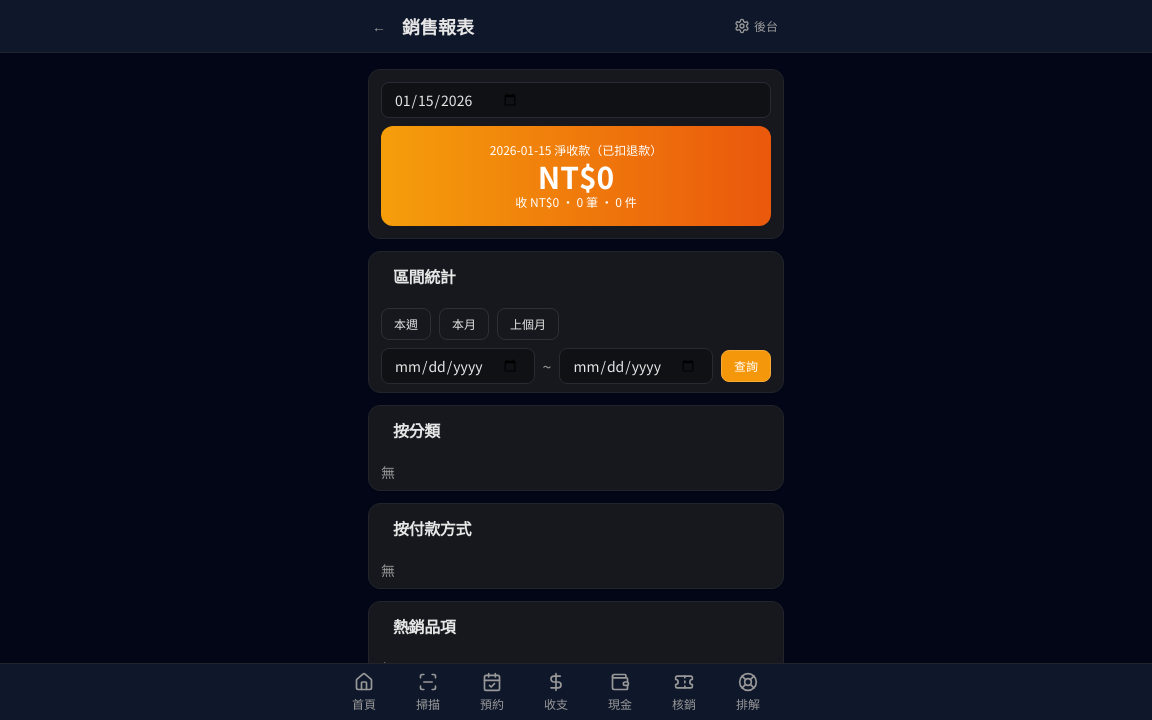
it: PosReports — 區間統計 › 自訂起訖合法 → 以輸入的起訖呼叫 API、標題顯示「自訂」
The width and height of the screenshot is (1152, 720).
Type "2025-11-03" into the date field with test id "range-custom-from".
click(458, 366); type("2025-11-03")  # box [381, 348, 534, 384]
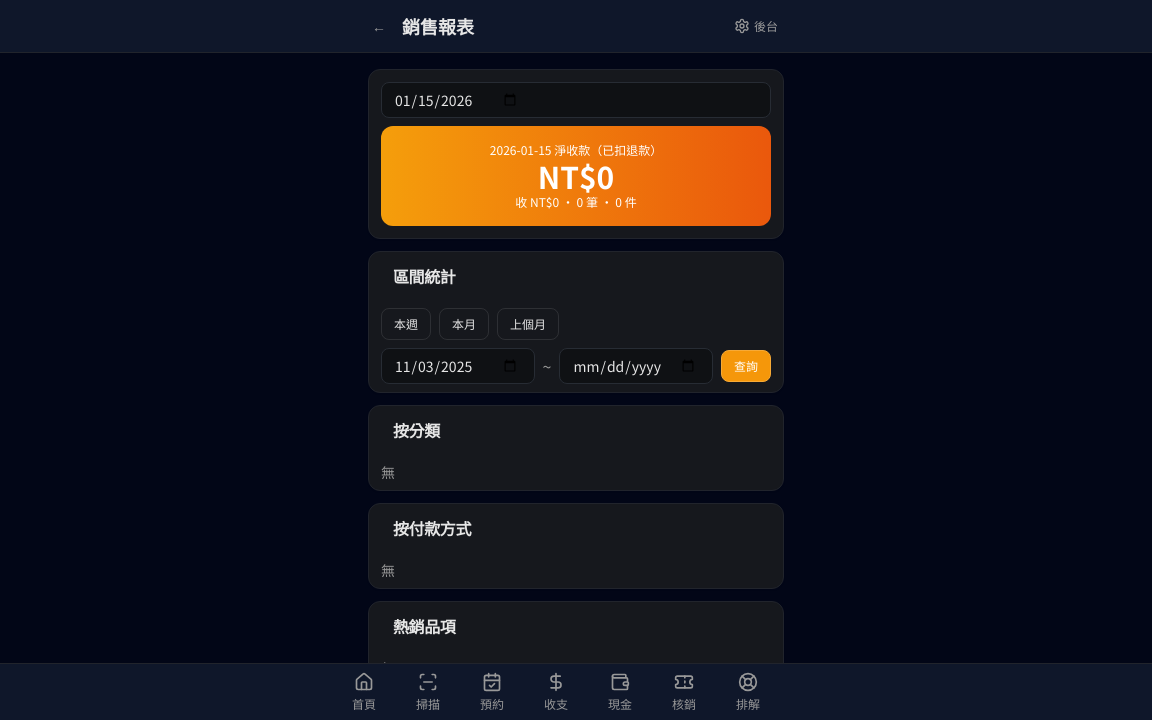
Type "2025-12-20" into the date field with test id "range-custom-to".
click(636, 366); type("2025-12-20")  # box [559, 348, 713, 384]
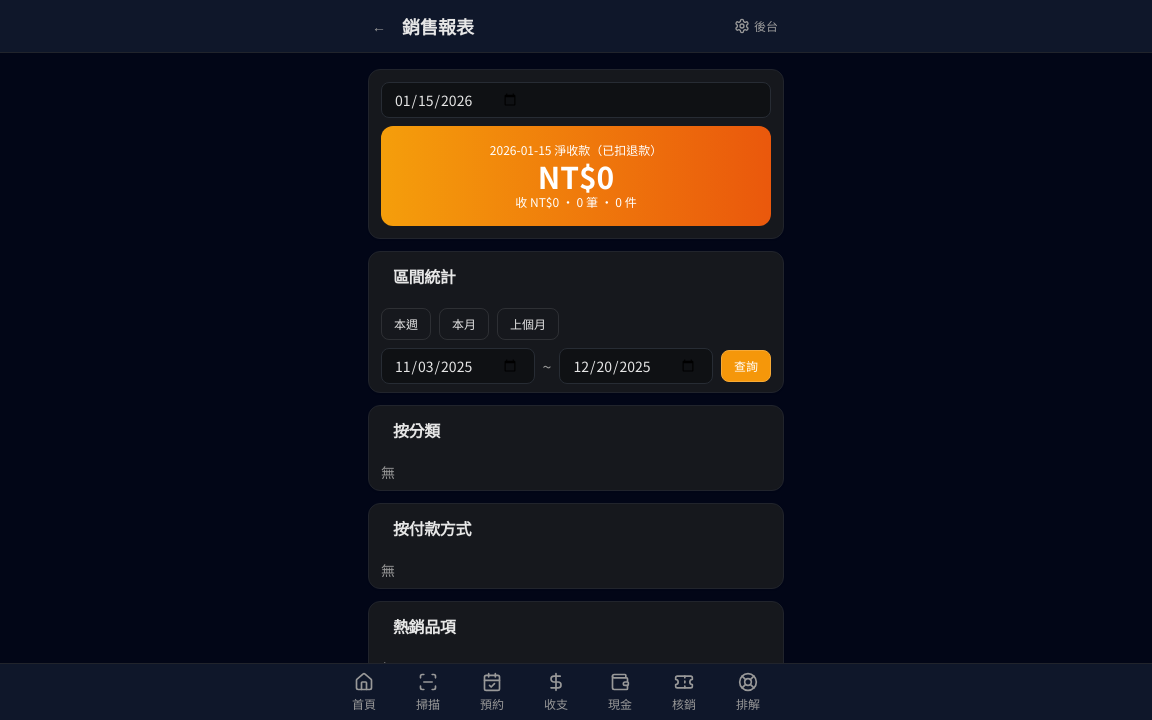
Click the button with test id "range-custom-submit".
click(746, 366)  # box [721, 350, 771, 382]
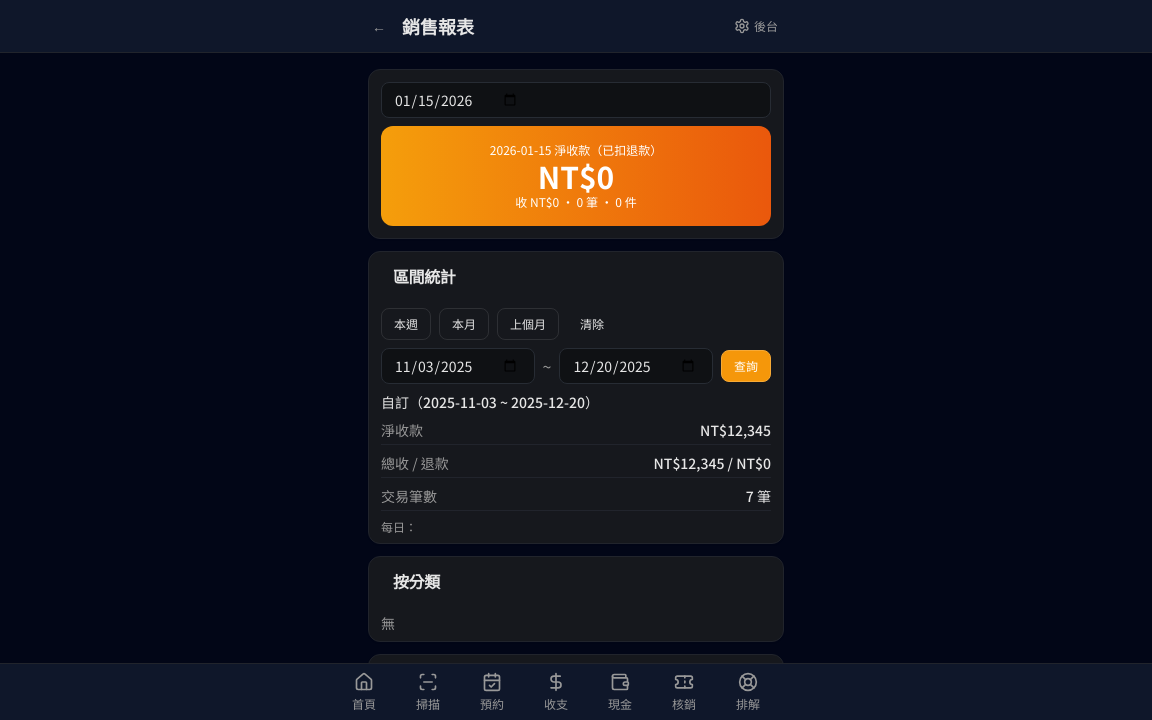
Expected: the text "自訂（2025-11-03 ~ 2025-12-20）" is shown, [381, 392, 599, 412]
